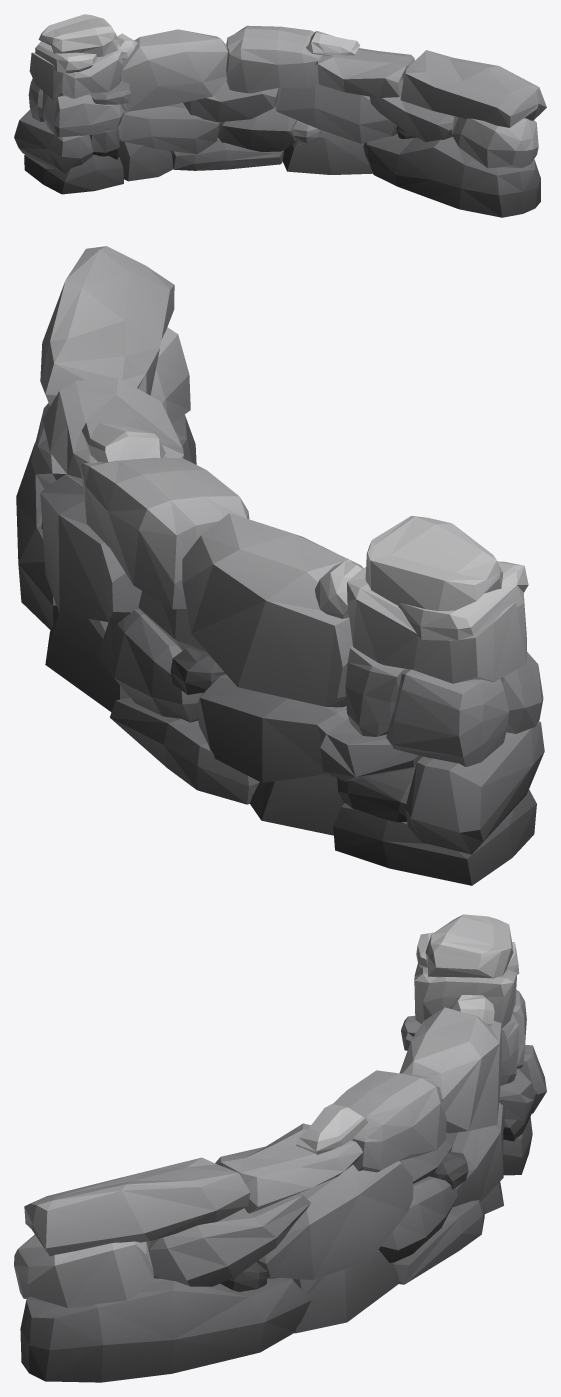
The model's file is RoadFenceStone_Lrg_Bend-02.FBX.
3 views of the same model, one above another, from view 1: azimuth 30°, elevation 25°; view 2: azimuth 150°, elevation 25°; view 3: azimuth 270°, elevation 25° (orthographic). The views are drawn at different scales.
Parts seen in each view (by area): view 1: RoadFenceStone_Lrg_Bend-02; view 2: RoadFenceStone_Lrg_Bend-02; view 3: RoadFenceStone_Lrg_Bend-02.
Part boxes in pixels (<box>): RoadFenceStone_Lrg_Bend-02: <box>14,14,546,217</box>; RoadFenceStone_Lrg_Bend-02: <box>16,246,544,885</box>; RoadFenceStone_Lrg_Bend-02: <box>14,914,546,1382</box>.
Size of the model in its own units: 360 by 141 by 304.
1 material, 1 textured.
